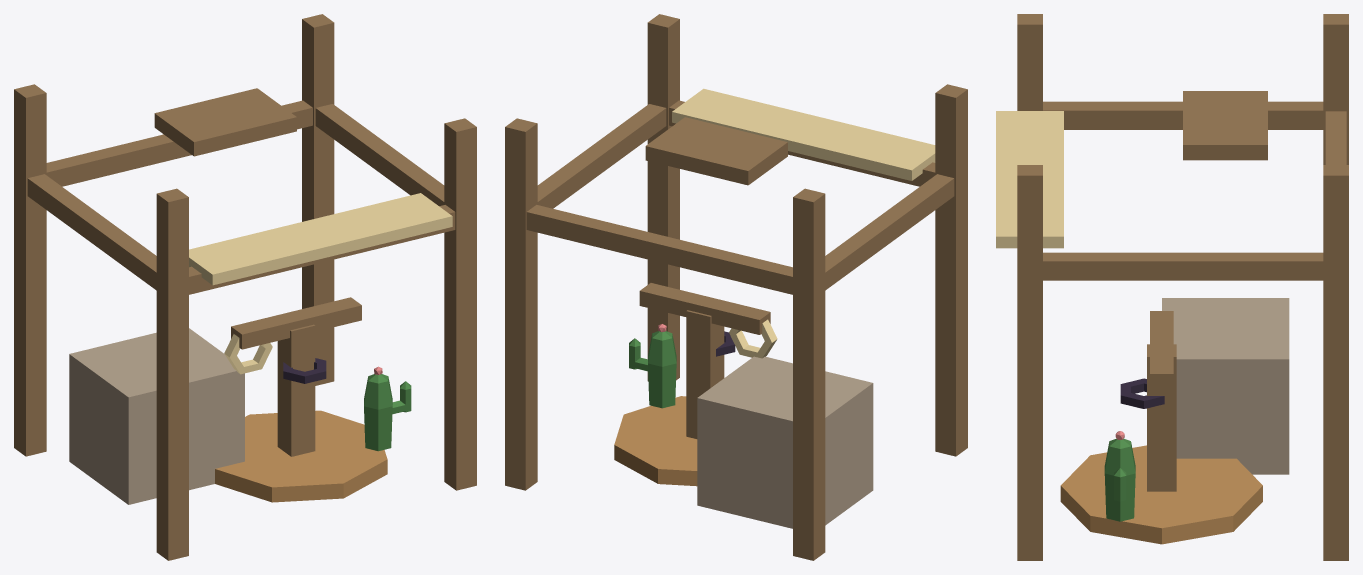
File: wildwest-scaffold.glb
3 views of the same model, side by side, from view 1: azimuth 30°, elevation 25°; view 2: azimuth 150°, elevation 25°; view 3: azimuth 270°, elevation 25° (orthographic). The views are drawn at different scales.
Parts seen in each view (by area): view 1: wildwest-scaffold; view 2: wildwest-scaffold; view 3: wildwest-scaffold.
Part boxes in pixels (left/top/right/bottom): wildwest-scaffold: left=14, top=14, right=476, bottom=560; wildwest-scaffold: left=505, top=14, right=967, bottom=560; wildwest-scaffold: left=996, top=14, right=1348, bottom=560.
Bounding box in the file's own units: 0.9 × 1 × 0.83.
